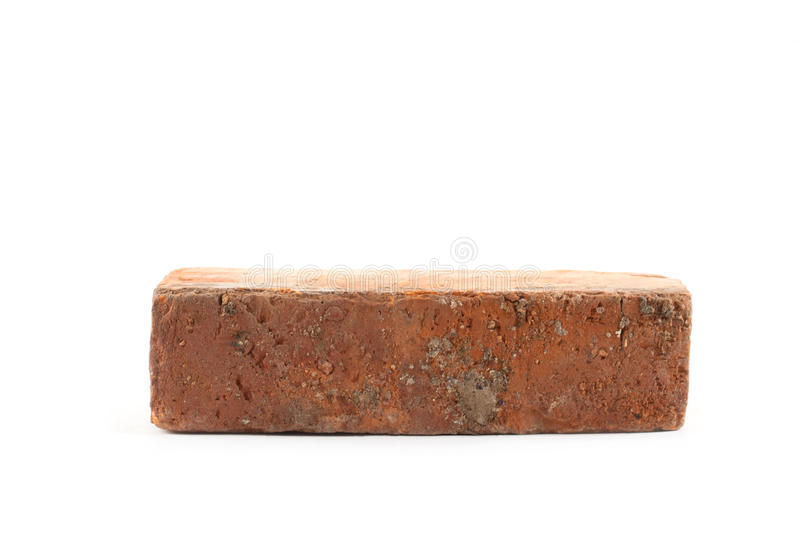brick: (157, 285, 686, 428)
